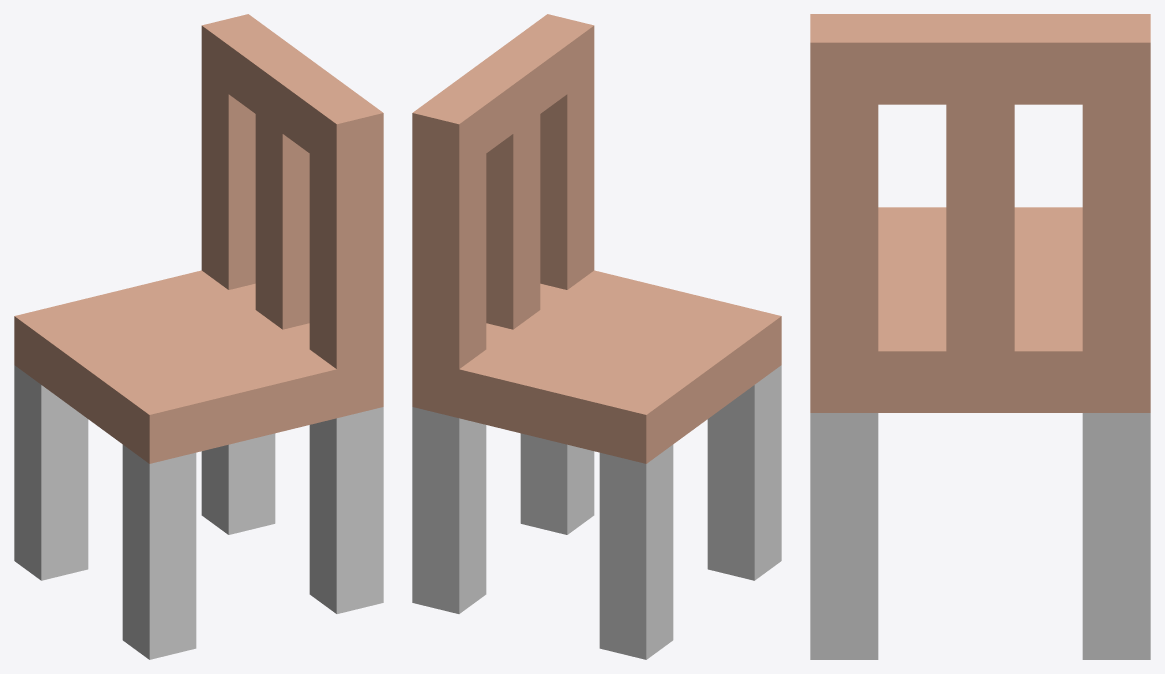
File: chair.glb
3 renders of one model, left to right at view 1: azimuth 30°, elevation 25°; view 2: azimuth 150°, elevation 25°; view 3: azimuth 270°, elevation 25°, orthographic. The views are drawn at different scales.
Parts seen in each view (by area): view 1: Cube, Cube.005, Cube.004, Cube.002, Cube.006, Cube.008, Cube.001, Cube.003, Cube.007; view 2: Cube, Cube.003, Cube.004, Cube.008, Cube.007, Cube.002, Cube.001, Cube.005, Cube.006; view 3: Cube, Cube.004, Cube.003, Cube.005, Cube.001, Cube.006, Cube.007.
Boxes of the visible parts, bbox=[...] form: Cube: bbox=[14, 270, 383, 463]; Cube.005: bbox=[309, 154, 383, 409]; Cube.004: bbox=[201, 14, 383, 173]; Cube.002: bbox=[122, 444, 196, 659]; Cube.006: bbox=[309, 407, 383, 613]; Cube.008: bbox=[14, 365, 88, 580]; Cube.001: bbox=[255, 114, 309, 329]; Cube.003: bbox=[201, 75, 255, 289]; Cube.007: bbox=[201, 433, 275, 534]; Cube: bbox=[413, 270, 781, 463]; Cube.003: bbox=[412, 154, 486, 417]; Cube.004: bbox=[412, 14, 594, 173]; Cube.008: bbox=[599, 444, 673, 659]; Cube.007: bbox=[412, 407, 486, 613]; Cube.002: bbox=[707, 365, 781, 580]; Cube.001: bbox=[486, 114, 540, 329]; Cube.005: bbox=[540, 75, 594, 289]; Cube.006: bbox=[520, 433, 594, 534]; Cube: bbox=[810, 207, 1150, 412]; Cube.004: bbox=[810, 14, 1150, 104]; Cube.003: bbox=[1082, 104, 1150, 412]; Cube.005: bbox=[810, 104, 878, 412]; Cube.001: bbox=[946, 104, 1014, 412]; Cube.006: bbox=[810, 413, 878, 659]; Cube.007: bbox=[1082, 413, 1150, 659].
Size of the model in its own units: 2 by 4 by 2.
